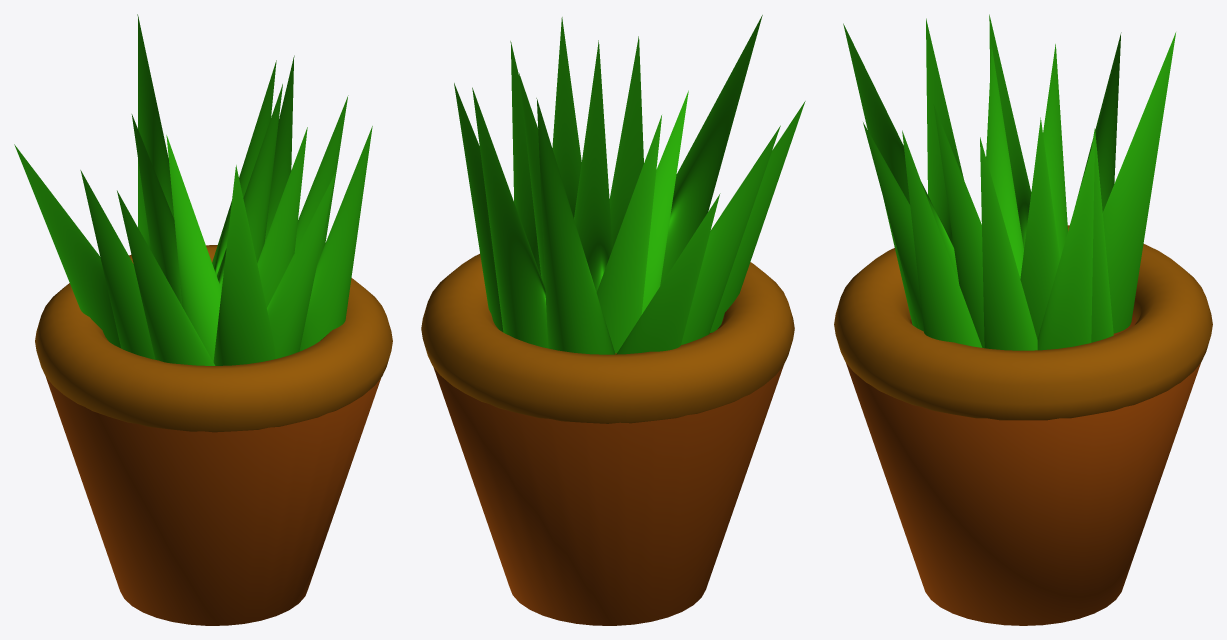
The model's file is plant.glb.
3 views of the same model, side by side, from view 1: azimuth 30°, elevation 25°; view 2: azimuth 150°, elevation 25°; view 3: azimuth 270°, elevation 25° (orthographic). The views are drawn at different scales.
Visible parts, largest first — view 1: Cone.010; view 2: Cone.010; view 3: Cone.010.
Boxes of the visible parts, x1,y1,x2,y2 form: Cone.010: (14, 14, 392, 625); Cone.010: (421, 15, 805, 625); Cone.010: (834, 14, 1212, 625).
Bounding box in the file's own units: 3.78 × 6.07 × 3.78.
